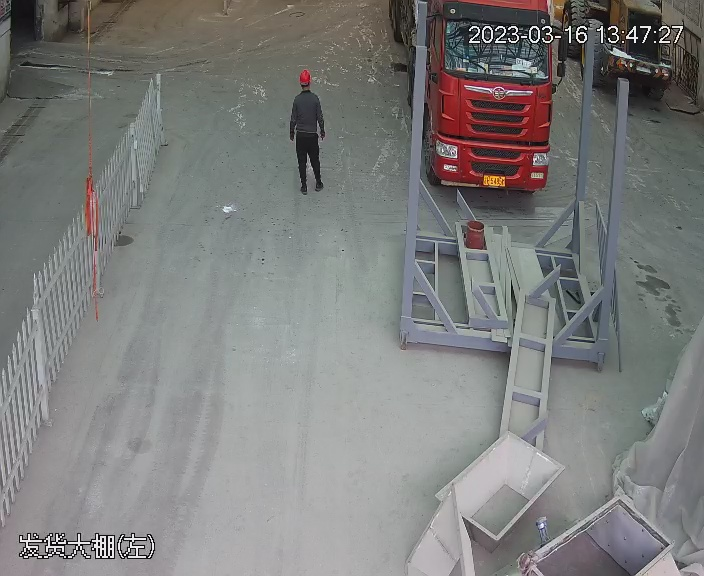head: (290, 69, 322, 108)
helmet: (298, 69, 313, 83)
people: (287, 68, 329, 194)
truck: (409, 0, 562, 194)
